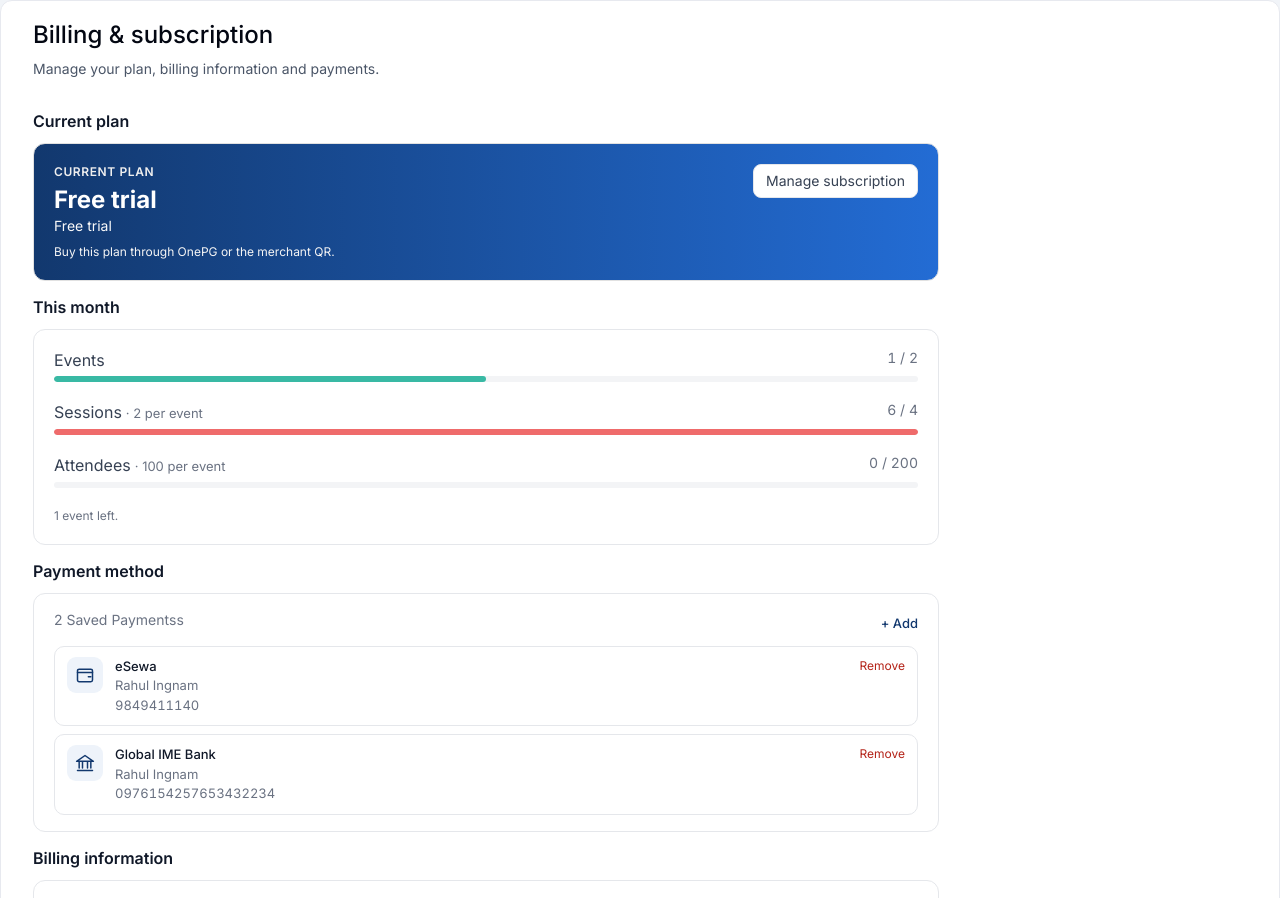
it: the subscription page › buying a plan › opens on the billing details and the saved methods
What coordinates should you click on to do the following:
click the button "Manage subscription"
I would click on:
 (836, 181)
Its box is [753,164,918,198].
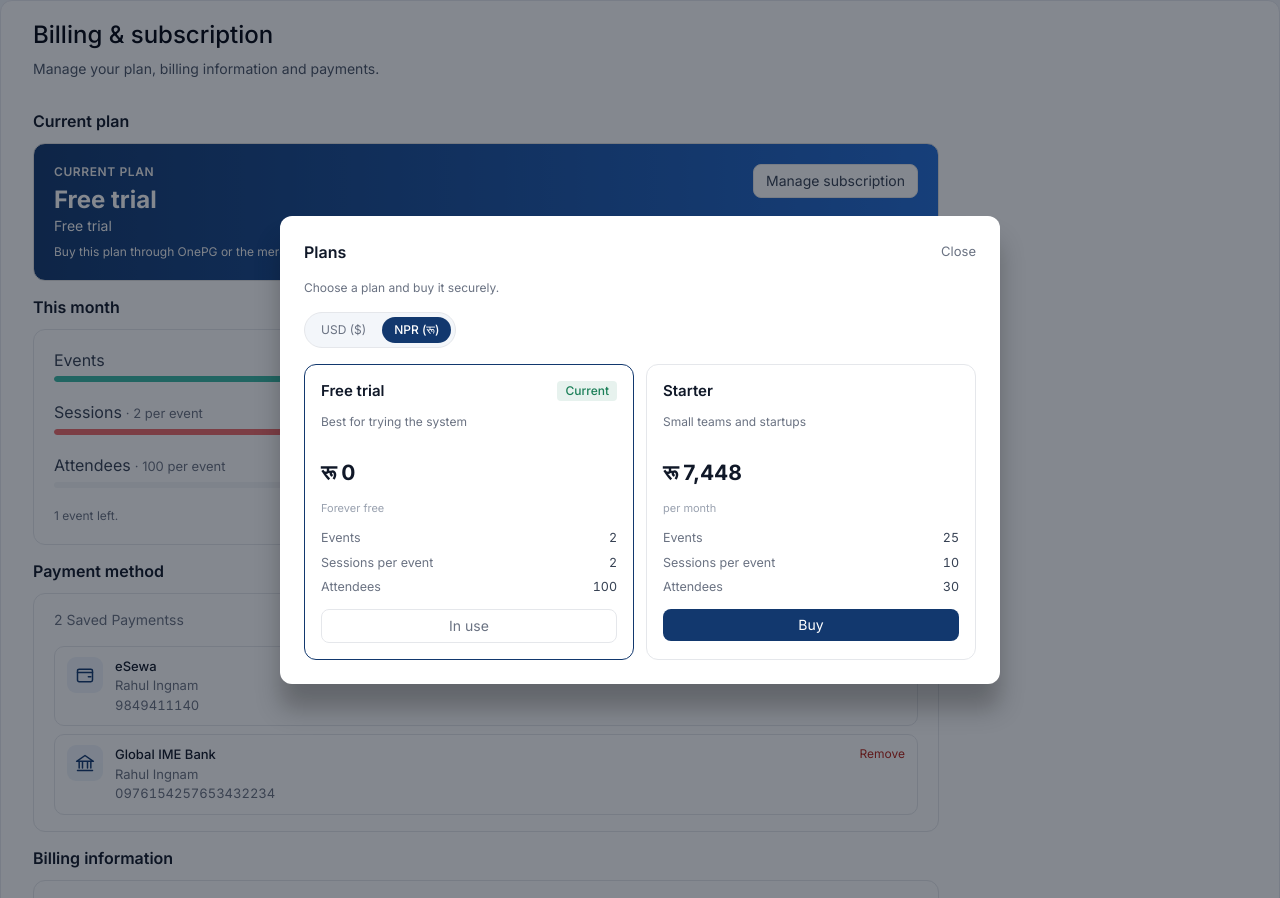
What coordinates should you click on to do the following:
click the button "Buy"
I would click on:
 (811, 625)
Its box is [663,609,959,641].
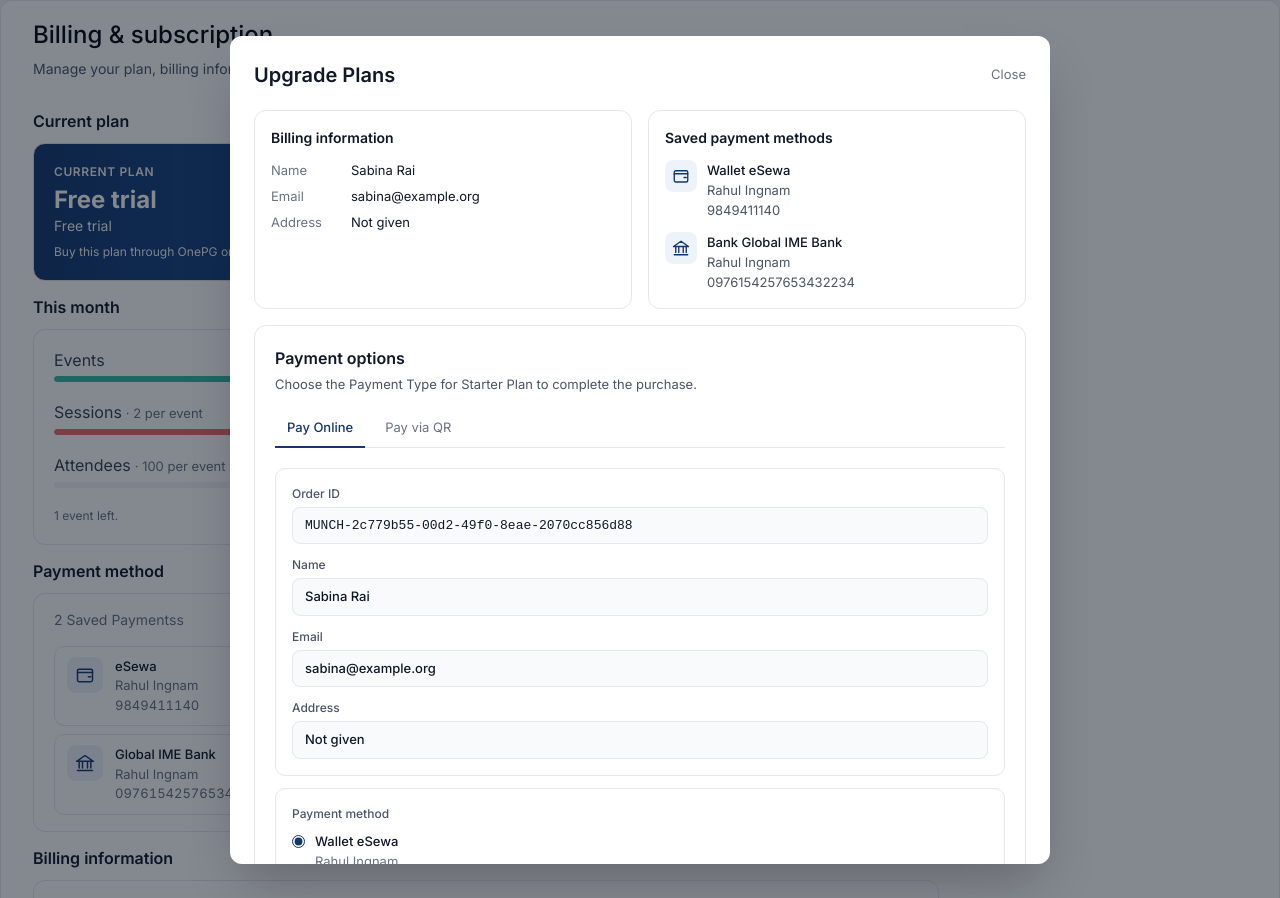
Expected: the heading "Saved payment methods" is shown, [665,129,833,146]
Expected: the text "Wallet eSewa" below "Saved payment methods" is shown, [707,162,790,178]
Expected: the text "Bank Global IME Bank" is shown, [707,232,855,252]
